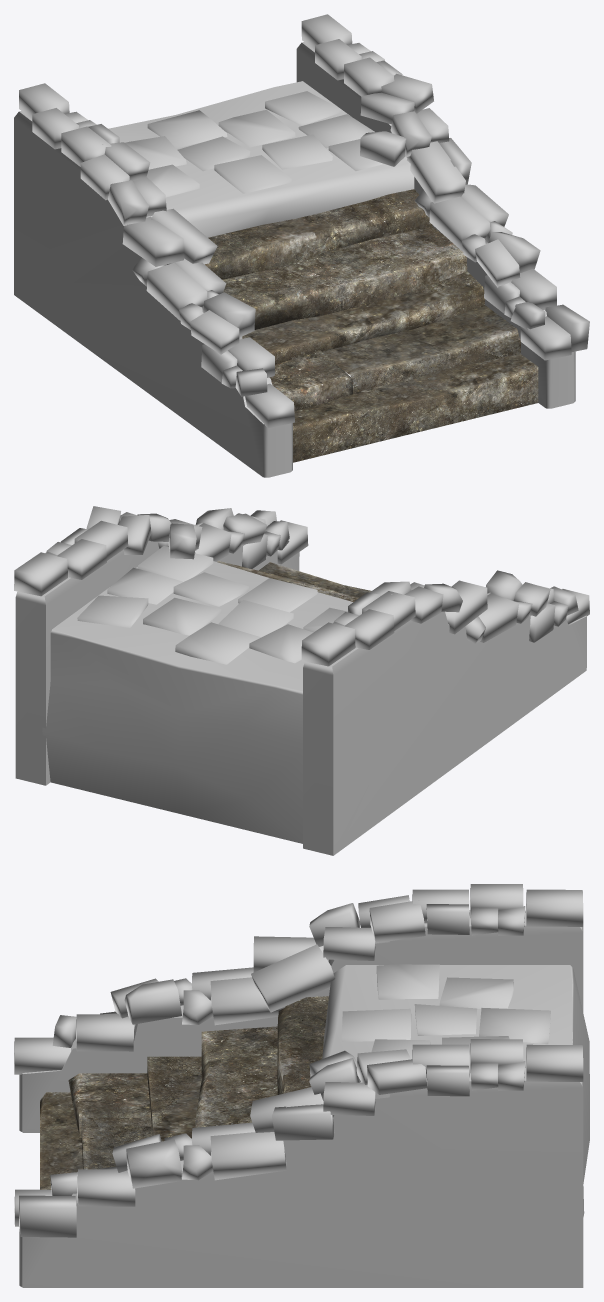
The model's file is Ruins_22A.fbx.
3 views of the same model, one above another, from view 1: azimuth 30°, elevation 25°; view 2: azimuth 150°, elevation 25°; view 3: azimuth 270°, elevation 25° (orthographic). The views are drawn at different scales.
Parts seen in each view (by area): view 1: polySurface3815; view 2: polySurface3815; view 3: polySurface3815.
Part boxes in pixels (x1,y1,x2,y2): polySurface3815: [14, 14, 589, 477]; polySurface3815: [14, 506, 589, 855]; polySurface3815: [14, 884, 589, 1287].
Size of the model in its own units: 4.29 by 2.43 by 5.53.
